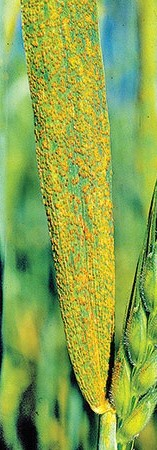Leaf Rust: (29, 29, 128, 388)
